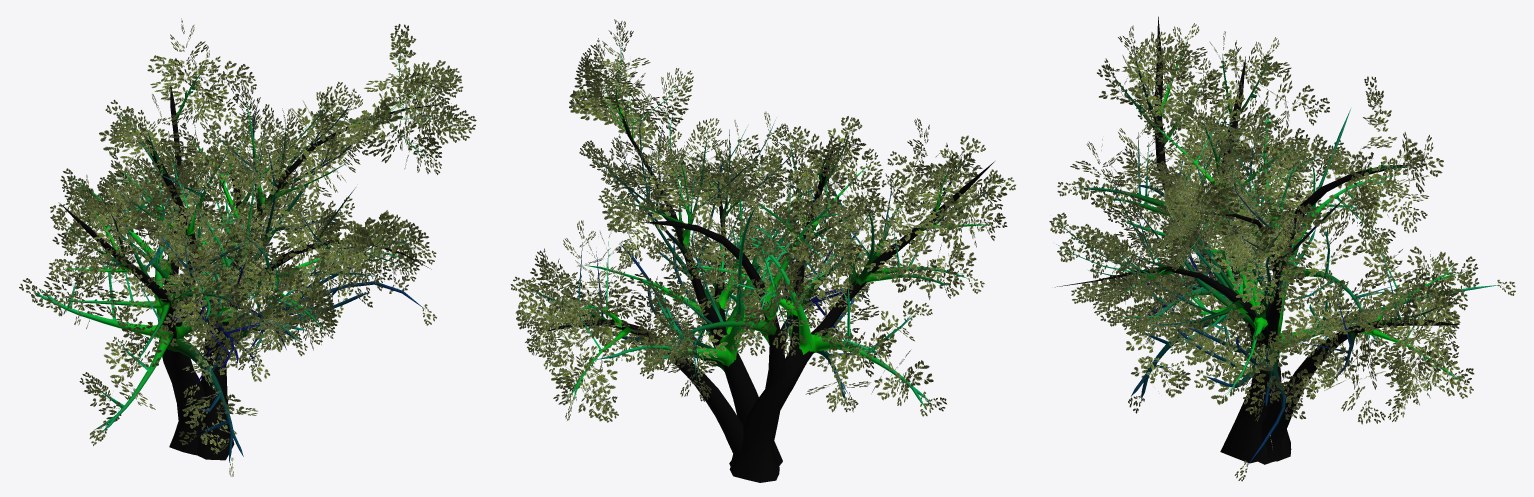
The model's file is Oak_Tree.fbx.
3 views of the same model, side by side, from view 1: azimuth 30°, elevation 25°; view 2: azimuth 150°, elevation 25°; view 3: azimuth 270°, elevation 25° (orthographic). The views are drawn at different scales.
Visible parts, largest first — view 1: Oak_Tree_Leaf, Oak_Tree_Bark; view 2: Oak_Tree_Leaf, Oak_Tree_Bark; view 3: Oak_Tree_Leaf, Oak_Tree_Bark.
Part boxes in pixels (x1=…): Oak_Tree_Leaf: x1=19, y1=18, x2=476, y2=476; Oak_Tree_Bark: x1=35, y1=45, x2=453, y2=462; Oak_Tree_Leaf: x1=510, y1=19, x2=1015, y2=422; Oak_Tree_Bark: x1=530, y1=40, x2=994, y2=482; Oak_Tree_Leaf: x1=1049, y1=23, x2=1515, y2=481; Oak_Tree_Bark: x1=1055, y1=16, x2=1501, y2=464.
Size of the model in its own units: 1632 by 1440 by 1460.
